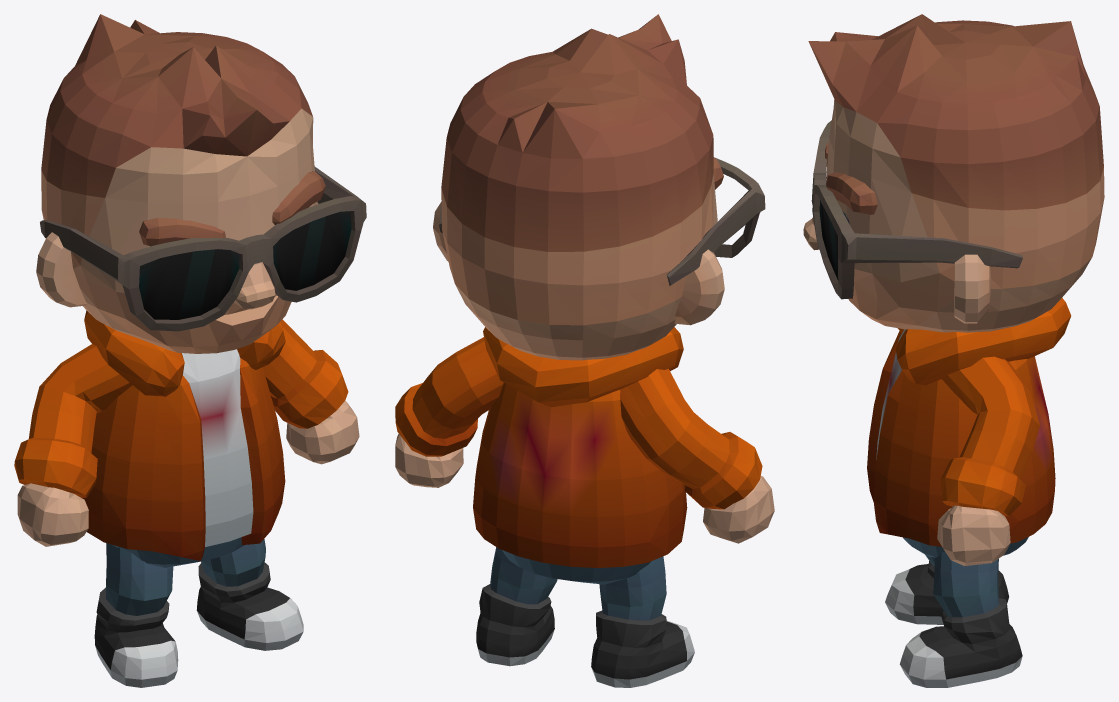
File: driver.glb
3 renders of one model, left to right at view 1: azimuth 30°, elevation 25°; view 2: azimuth 150°, elevation 25°; view 3: azimuth 270°, elevation 25°, orthographic.
Visible parts, largest first — view 1: driver; view 2: driver; view 3: driver.
Part boxes in pixels (bbox=[...]): driver: bbox=[14, 14, 366, 687]; driver: bbox=[395, 14, 774, 687]; driver: bbox=[803, 14, 1104, 687].
Size of the model in its own units: 0.5848 by 1 by 0.4392.
